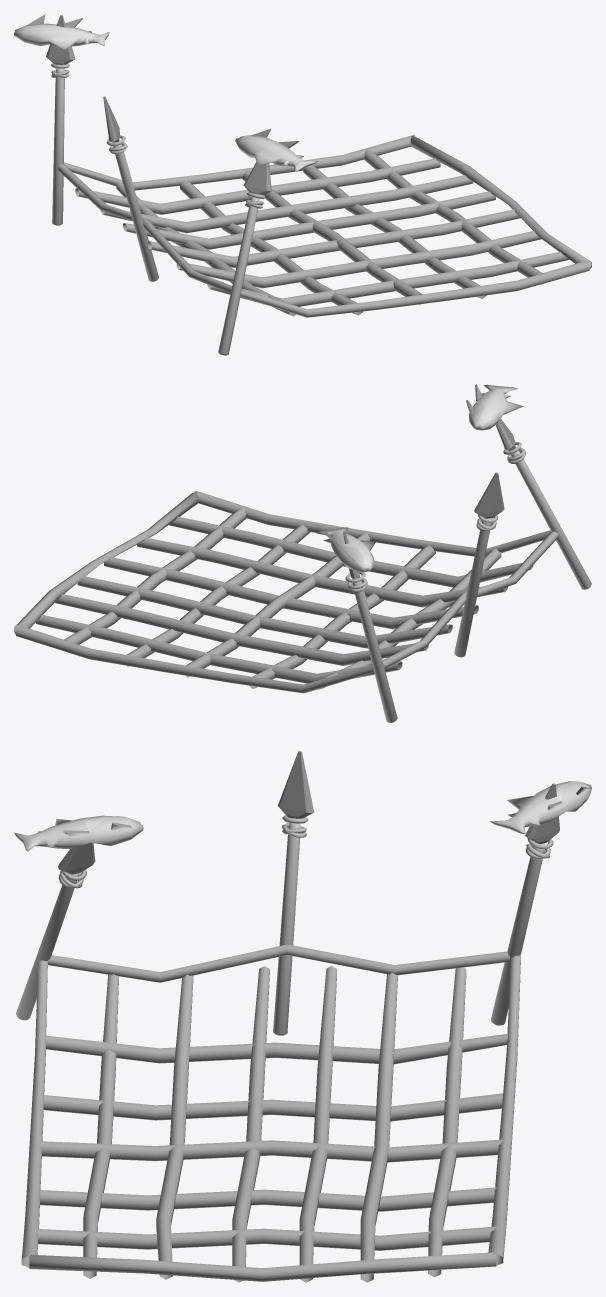
Rendered from Fishing_Area.fbx.
3 views of the same model, one above another, from view 1: azimuth 30°, elevation 25°; view 2: azimuth 150°, elevation 25°; view 3: azimuth 270°, elevation 25° (orthographic). The views are drawn at different scales.
Parts seen in each view (by area): view 1: Fishing_area; view 2: Fishing_area; view 3: Fishing_area.
Part boxes in pixels (box(x1,y1,x2,y2)): Fishing_area: box(14, 14, 591, 355); Fishing_area: box(14, 384, 591, 722); Fishing_area: box(14, 751, 591, 1282).
Size of the model in its own units: 3.29 by 1.62 by 3.04.
